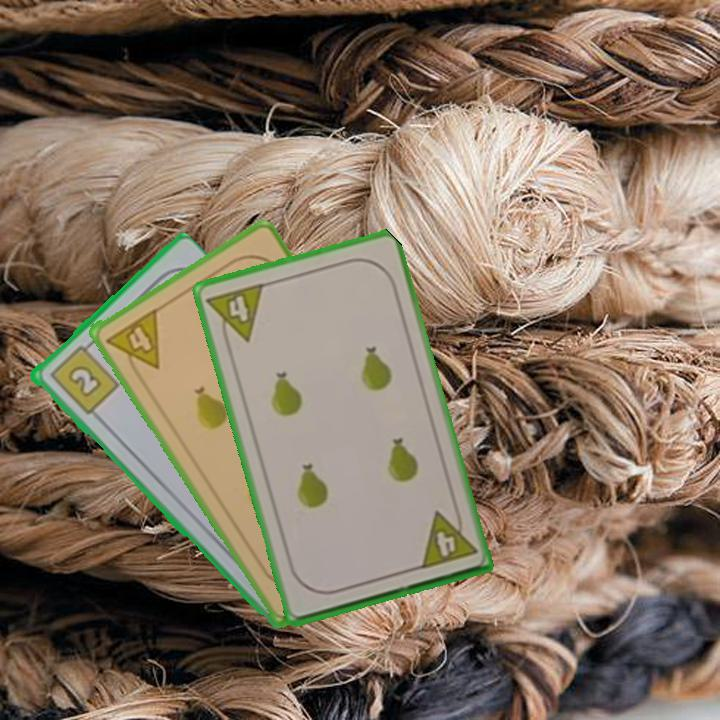2b: (45, 337, 121, 418)
4p: (102, 304, 163, 382), (203, 279, 267, 350), (416, 503, 480, 572)
